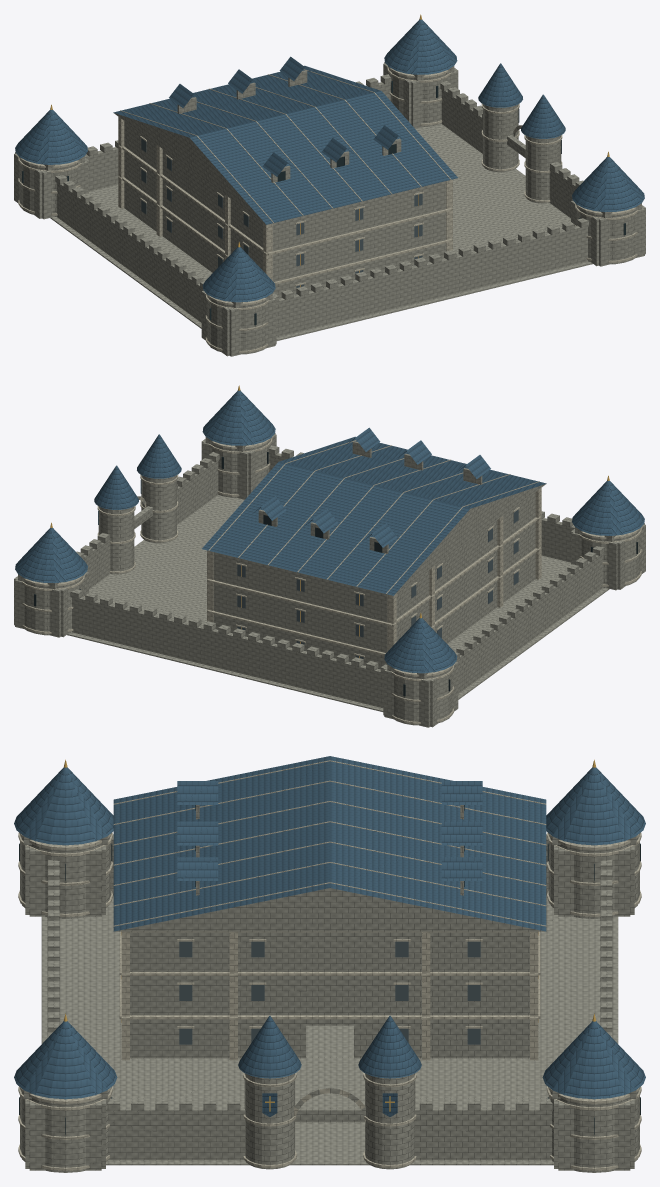
Rendered from CastleV18.glb.
3 views of the same model, one above another, from view 1: azimuth 30°, elevation 25°; view 2: azimuth 150°, elevation 25°; view 3: azimuth 270°, elevation 25° (orthographic). The views are drawn at different scales.
Visible parts, largest first — view 1: Roof_Keep, Walls_Castle_Curtain, Floor_Castle_Courtyard, Walls_Keep_L1, Walls_Keep_L2, Walls_Keep_L0, Roof_Keep_Dormers_and_ridges, Roof_Castle_Bastion.001, Roof_Castle_Bastion, Roof_Castle_Bastion.002, Roof_Castle_Bastion.003, Castle round bastion masonry.001 (+11 smaller); view 2: Roof_Keep, Walls_Castle_Curtain, Floor_Castle_Courtyard, Walls_Keep_L1, Walls_Keep_L2, Walls_Keep_L0, Roof_Keep_Dormers_and_ridges, Roof_Castle_Bastion, Roof_Castle_Bastion.001, Roof_Castle_Bastion.003, Roof_Castle_Bastion.002, Castle round bastion masonry (+11 smaller); view 3: Roof_Keep, Floor_Castle_Courtyard, Walls_Castle_Curtain, Walls_Keep_L1, Walls_Keep_L2, Walls_Keep_L0, Roof_Keep_Dormers_and_ridges, Roof_Castle_Bastion.002, Roof_Castle_Bastion.003, Roof_Castle_Bastion, Roof_Castle_Bastion.001, Castle gatehouse drum.001 (+12 smaller).
Boxes of the visible parts, x1=… form: Roof_Keep: x1=113, y1=65, x2=457, y2=224; Walls_Castle_Curtain: x1=55, y1=74, x2=589, y2=336; Floor_Castle_Courtyard: x1=50, y1=124, x2=592, y2=340; Walls_Keep_L1: x1=118, y1=145, x2=452, y2=281; Walls_Keep_L2: x1=118, y1=117, x2=452, y2=252; Walls_Keep_L0: x1=118, y1=176, x2=452, y2=298; Roof_Keep_Dormers_and_ridges: x1=120, y1=56, x2=451, y2=223; Roof_Castle_Bastion.001: x1=202, y1=242, x2=275, y2=302; Roof_Castle_Bastion: x1=15, y1=104, x2=87, y2=164; Roof_Castle_Bastion.002: x1=384, y1=14, x2=457, y2=74; Roof_Castle_Bastion.003: x1=572, y1=151, x2=644, y2=212; Castle round bastion masonry.001: x1=205, y1=293, x2=269, y2=354; Roof_Keep: x1=202, y1=436, x2=546, y2=595; Walls_Castle_Curtain: x1=70, y1=445, x2=604, y2=707; Floor_Castle_Courtyard: x1=67, y1=495, x2=609, y2=711; Walls_Keep_L1: x1=207, y1=516, x2=541, y2=652; Walls_Keep_L2: x1=207, y1=488, x2=541, y2=623; Walls_Keep_L0: x1=207, y1=547, x2=541, y2=669; Roof_Keep_Dormers_and_ridges: x1=208, y1=427, x2=539, y2=594; Roof_Castle_Bastion: x1=384, y1=613, x2=457, y2=673; Roof_Castle_Bastion.001: x1=572, y1=475, x2=644, y2=535; Roof_Castle_Bastion.003: x1=202, y1=385, x2=275, y2=445; Roof_Castle_Bastion.002: x1=15, y1=522, x2=87, y2=583; Castle round bastion masonry: x1=390, y1=664, x2=454, y2=725; Roof_Keep: x1=113, y1=756, x2=546, y2=931; Floor_Castle_Courtyard: x1=41, y1=896, x2=618, y2=1165; Walls_Castle_Curtain: x1=47, y1=834, x2=612, y2=1160; Walls_Keep_L1: x1=119, y1=931, x2=540, y2=1016; Walls_Keep_L2: x1=121, y1=931, x2=538, y2=973; Walls_Keep_L0: x1=119, y1=975, x2=540, y2=1060; Roof_Keep_Dormers_and_ridges: x1=113, y1=760, x2=546, y2=926; Roof_Castle_Bastion.002: x1=542, y1=1013, x2=645, y2=1099; Roof_Castle_Bastion.003: x1=14, y1=1013, x2=117, y2=1099; Roof_Castle_Bastion: x1=546, y1=759, x2=645, y2=845; Roof_Castle_Bastion.001: x1=14, y1=759, x2=113, y2=845; Castle gatehouse drum.001: x1=243, y1=1072, x2=397, y2=1169.
Bounding box in the file's own units: 58.6 × 16.7 × 52.6.
Materials: 8 (4 with a texture image).
